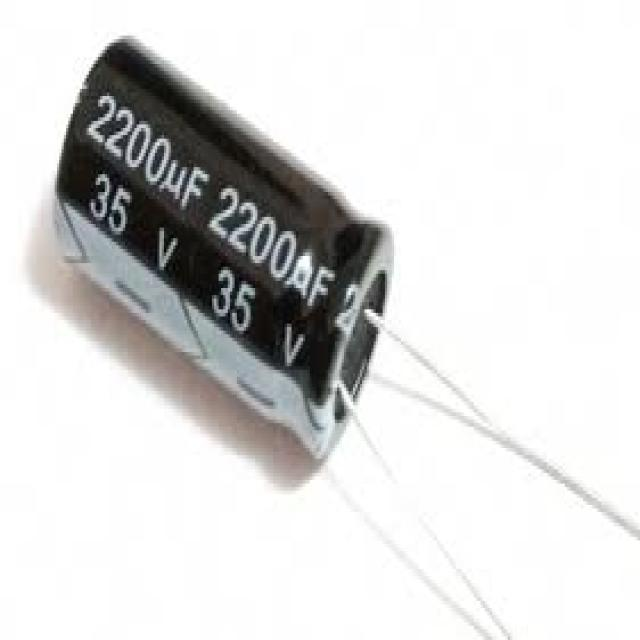Capacitor: (52, 39, 389, 462)
